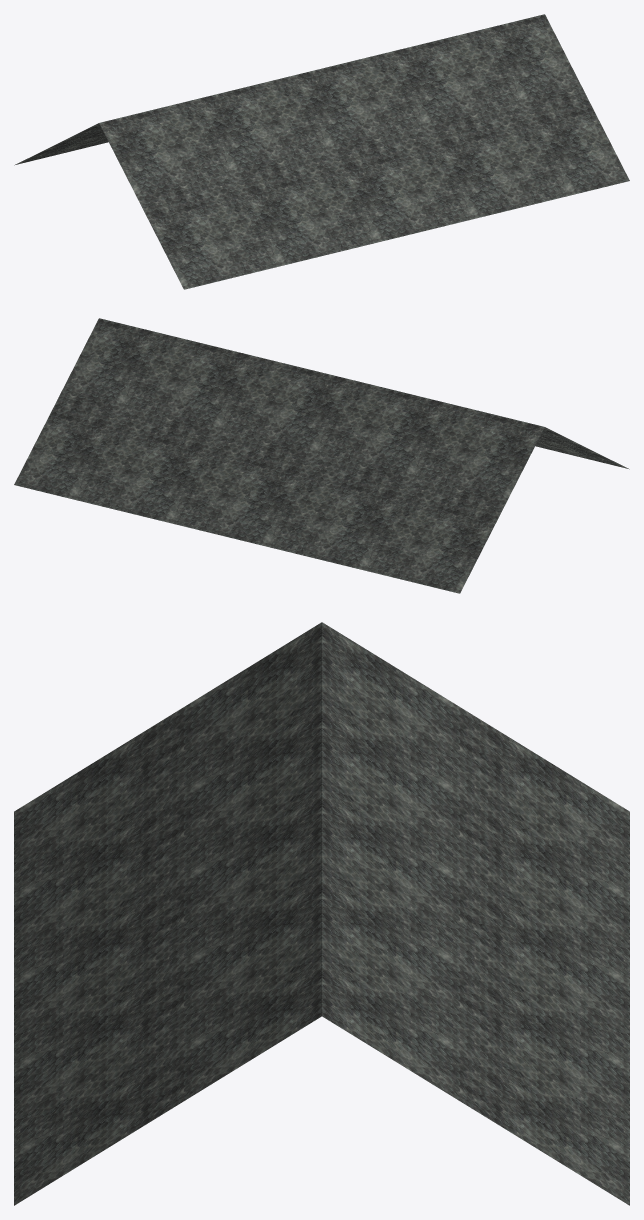
Rendered from Roof.fbx.
3 renders of one model, top to bottom at view 1: azimuth 30°, elevation 25°; view 2: azimuth 150°, elevation 25°; view 3: azimuth 270°, elevation 25°, orthographic. The views are drawn at different scales.
Visible parts, largest first — view 1: Roof; view 2: Roof; view 3: Roof.
Boxes of the visible parts, x1,y1,x2,y2 form: Roof: (14,14,629,289); Roof: (14,318,629,593); Roof: (14,622,629,1205).
Size of the model in its own units: 774 by 174 by 511.
1 material, 1 textured.
